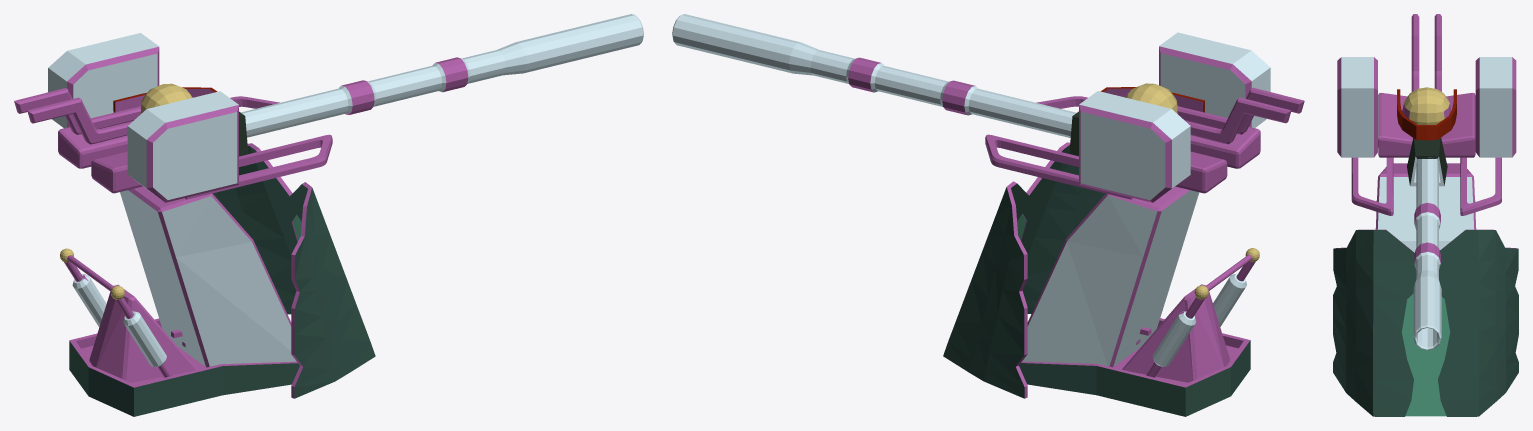
Rendered from Turret-Type1-1.fbx.
3 renders of one model, left to right at view 1: azimuth 30°, elevation 25°; view 2: azimuth 150°, elevation 25°; view 3: azimuth 270°, elevation 25°, orthographic. The views are drawn at different scales.
Parts seen in each view (by area): view 1: auto_turret:base, auto_turret:attack; view 2: auto_turret:base, auto_turret:attack; view 3: auto_turret:base, auto_turret:attack.
Part boxes in pixels (left/top/right/bottom): auto_turret:base: left=60, top=143, right=375, bottom=416; auto_turret:attack: left=14, top=14, right=643, bottom=202; auto_turret:base: left=943, top=142, right=1259, bottom=416; auto_turret:attack: left=672, top=14, right=1304, bottom=202; auto_turret:base: left=1333, top=163, right=1518, bottom=416; auto_turret:attack: left=1337, top=14, right=1516, bottom=350.
Size of the model in its own units: 115 by 54.5 by 34.5.
